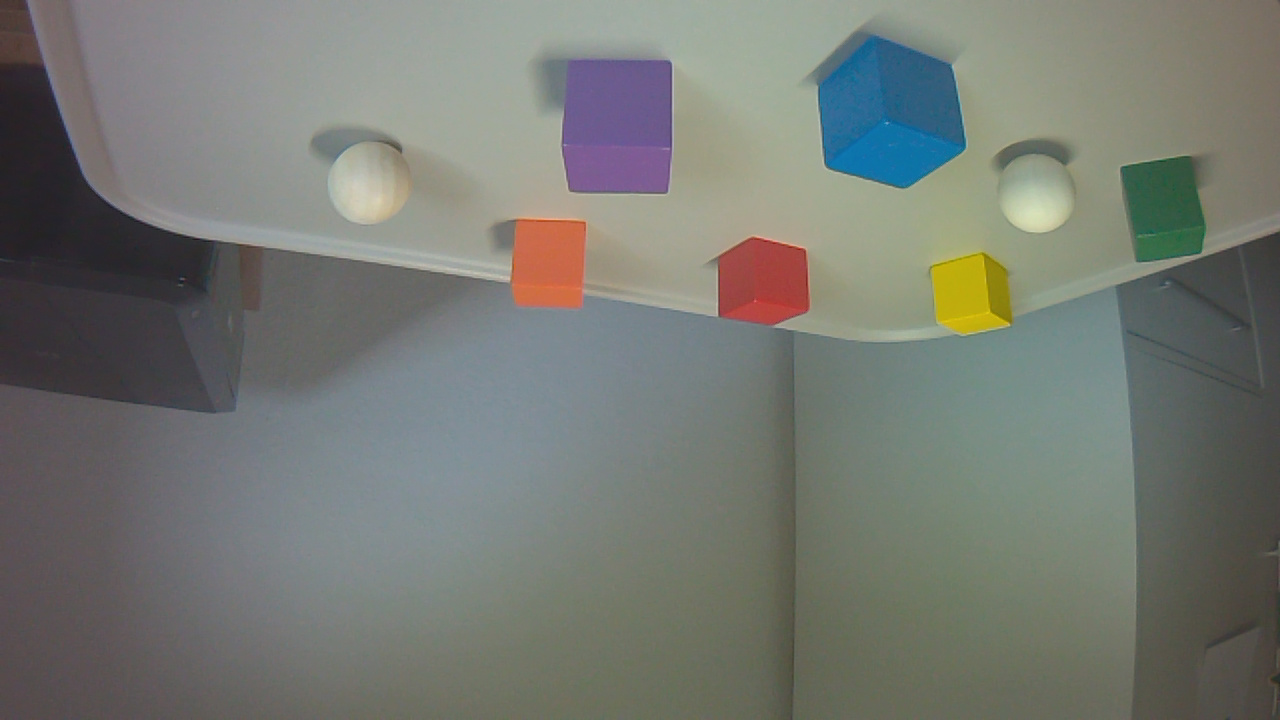ball: (330, 145, 417, 233), (999, 158, 1081, 240)
cube_blue: (820, 40, 972, 197)
cube_green: (1122, 160, 1213, 269)
cube_orange: (514, 221, 593, 314)
cube_purple: (564, 63, 680, 200)
cube_red: (721, 240, 817, 332)
cube_yellow: (934, 258, 1019, 343)
